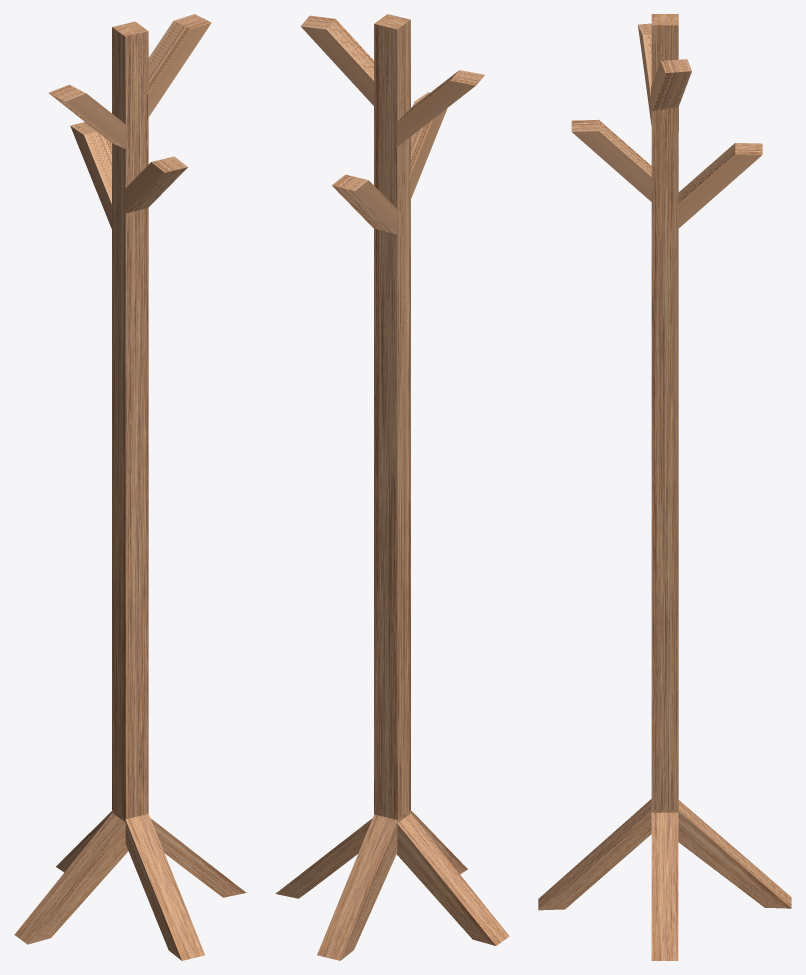
File: colgador.gltf
3 views of the same model, side by side, from view 1: azimuth 30°, elevation 25°; view 2: azimuth 150°, elevation 25°; view 3: azimuth 270°, elevation 25° (orthographic).
Parts seen in each view (by area): view 1: Cube.066; view 2: Cube.066; view 3: Cube.066.
Part boxes in pixels (left/top/right/bottom): Cube.066: left=14, top=14, right=246, bottom=960; Cube.066: left=275, top=14, right=509, bottom=960; Cube.066: left=538, top=14, right=791, bottom=960.
Size of the model in its own units: 2.24 by 8.67 by 2.24.
1 material, 1 textured.
